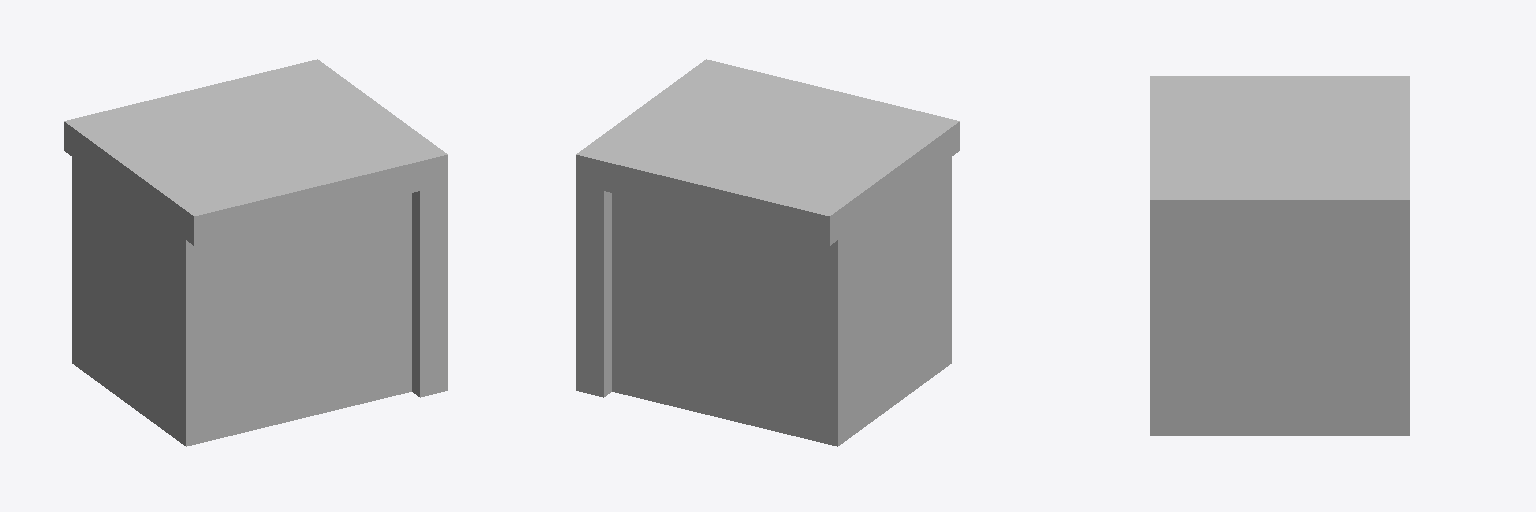
The model's file is plan_fin.obj.
The picture shows the model from 3 angles: view 1: azimuth 30°, elevation 25°; view 2: azimuth 150°, elevation 25°; view 3: azimuth 270°, elevation 25°; orthographic projection.
Parts seen in each view (by area): view 1: cube, cube.002; view 2: cube, cube.002; view 3: cube.002.
Part boxes in pixels (left/top/right/bottom): cube: left=72, top=157, right=411, bottom=446; cube.002: left=64, top=59, right=447, bottom=397; cube: left=612, top=157, right=951, bottom=446; cube.002: left=576, top=59, right=959, bottom=397; cube.002: left=1150, top=76, right=1409, bottom=435.
Size of the model in its own units: 1.12 by 1 by 1.